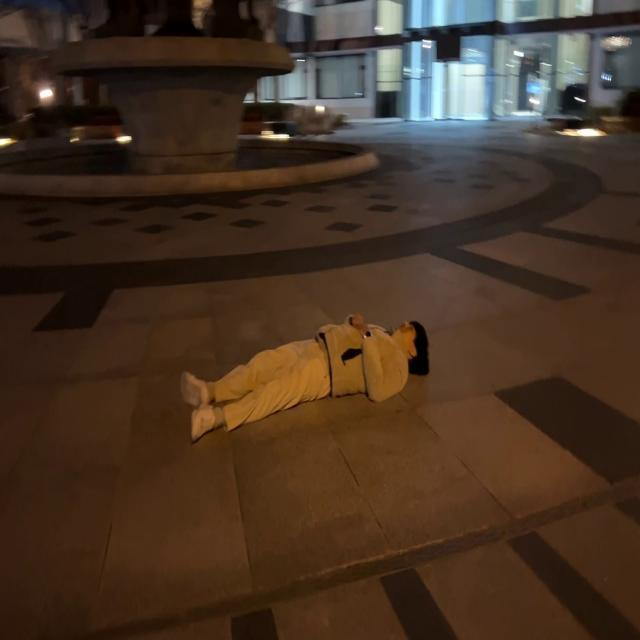Fall: (181, 314, 430, 442)
